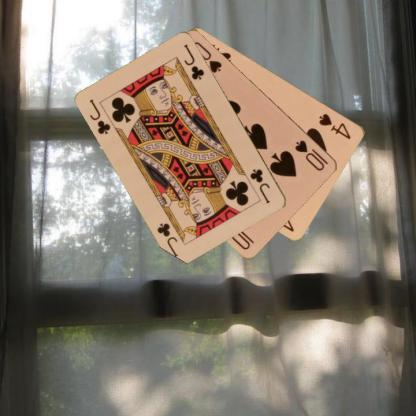10s: (292, 138, 330, 172)
4s: (316, 110, 352, 140)
Jc: (87, 96, 113, 136), (247, 166, 272, 205)
